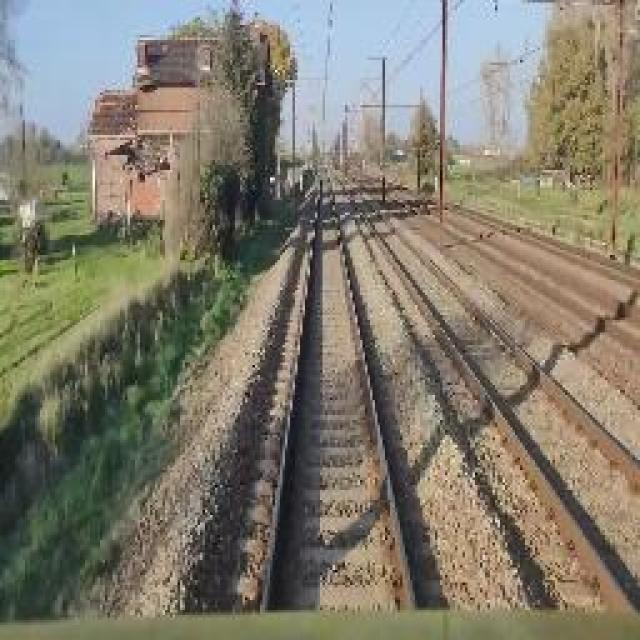rail: (330, 166, 640, 613), (206, 161, 450, 613)
